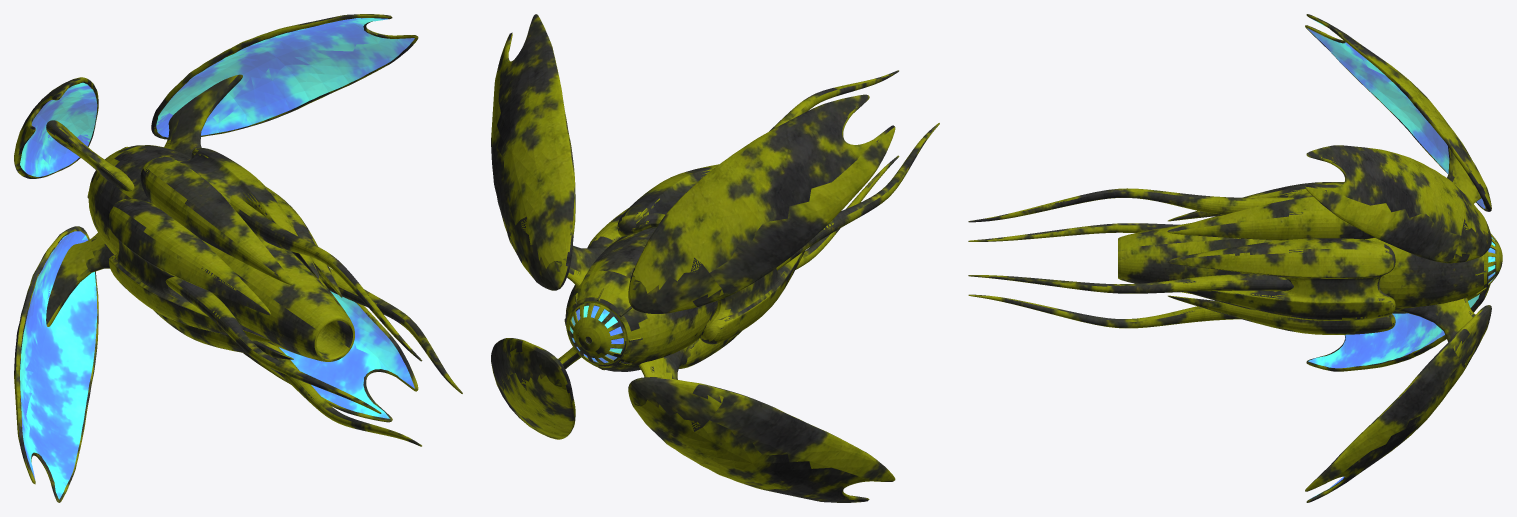
File: vorlon-fighter.glb
3 renders of one model, left to right at view 1: azimuth 30°, elevation 25°; view 2: azimuth 150°, elevation 25°; view 3: azimuth 270°, elevation 25°, orthographic. The views are drawn at different scales.
Parts seen in each view (by area): view 1: Celestia_Vorlon_Light_Fighter_original_2; view 2: Celestia_Vorlon_Light_Fighter_original_2; view 3: Celestia_Vorlon_Light_Fighter_original_2.
Boxes of the visible parts, x1,y1,x2,y2 form: Celestia_Vorlon_Light_Fighter_original_2: [14, 14, 462, 502]; Celestia_Vorlon_Light_Fighter_original_2: [491, 14, 939, 502]; Celestia_Vorlon_Light_Fighter_original_2: [968, 14, 1502, 502].
Bounding box in the file's own units: 20.02 × 20.12 × 27.8.
Materials: 2 (2 with a texture image).
